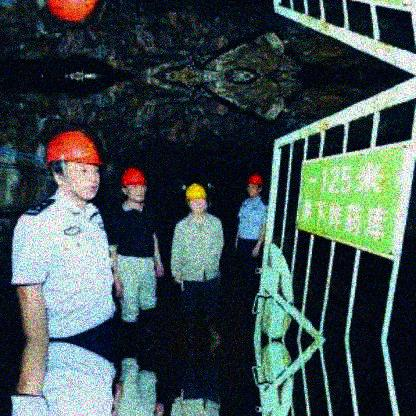helmet: (46, 130, 102, 203), (119, 166, 148, 203), (185, 183, 209, 214), (247, 171, 265, 197)
